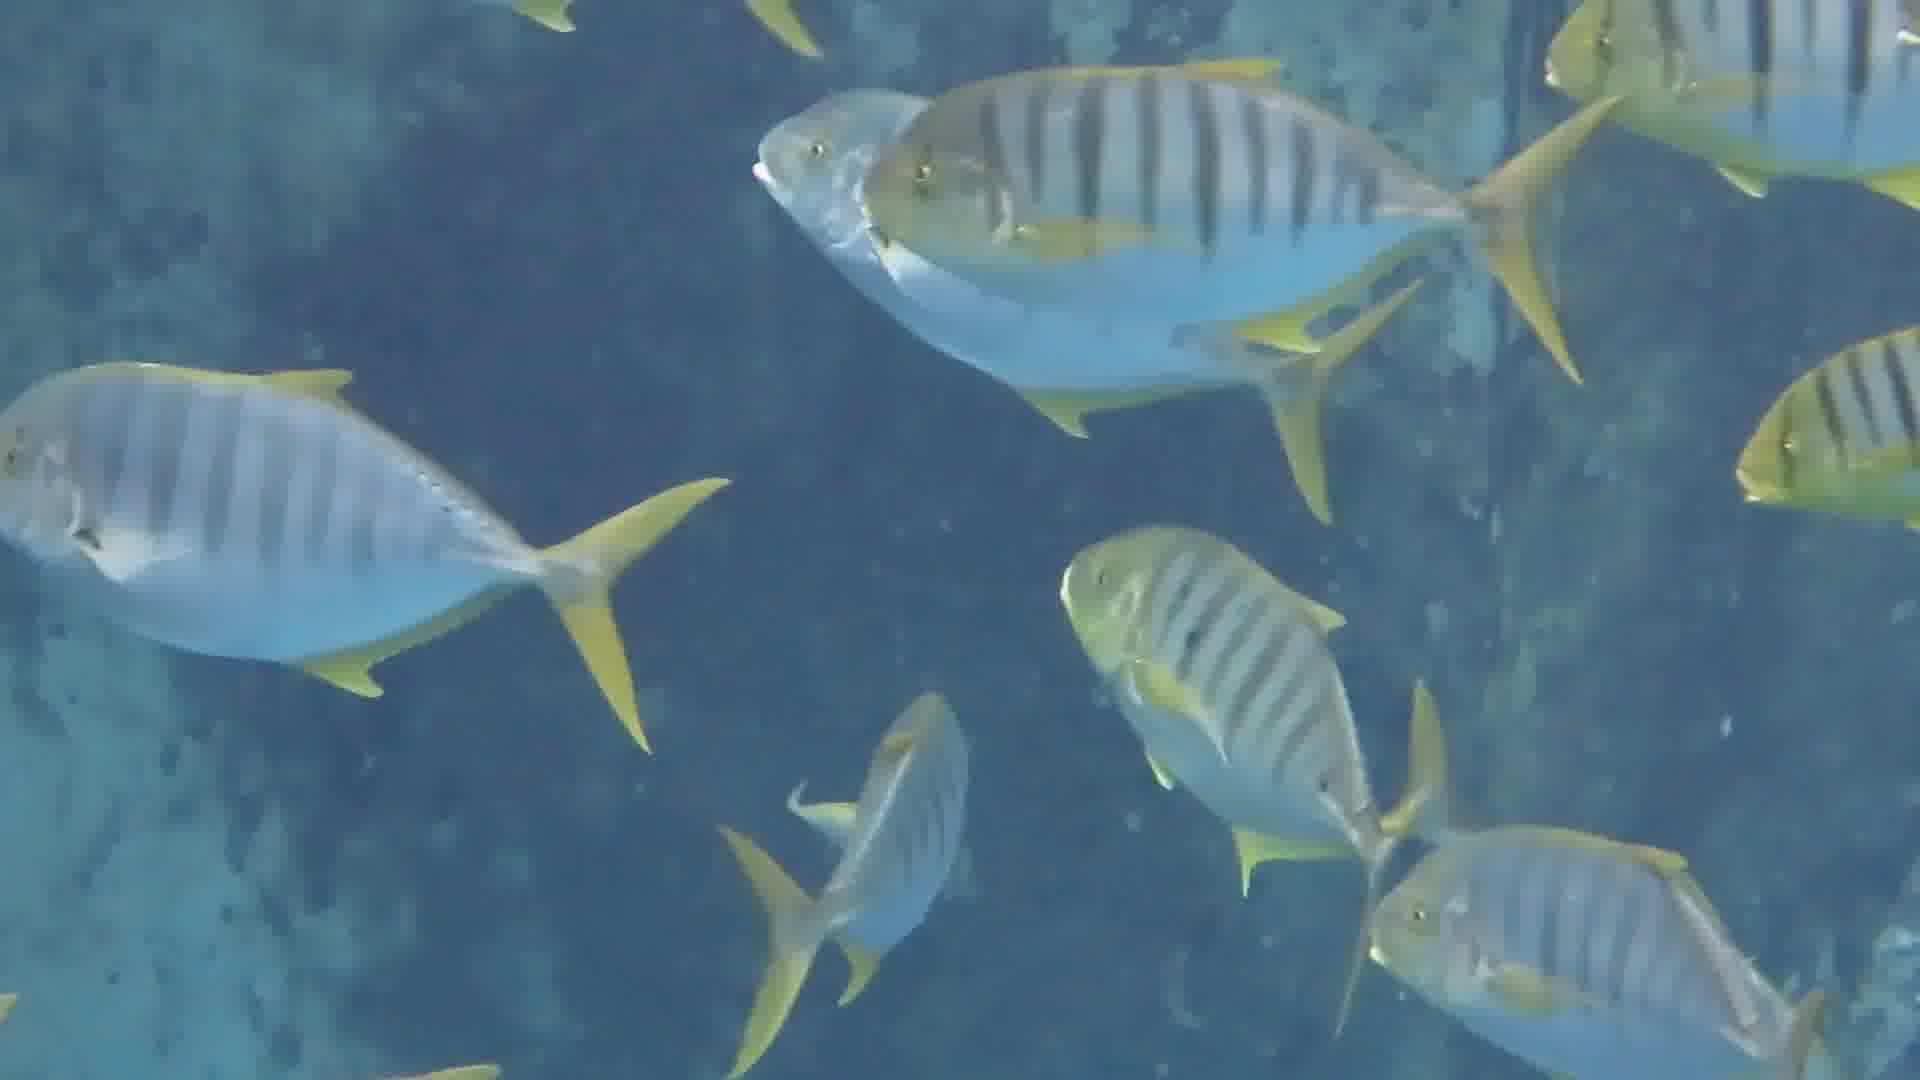Gnathanodon speciosus: (9, 320, 644, 741), (887, 67, 1578, 345), (1058, 495, 1357, 906), (1378, 825, 1808, 1080), (1520, 9, 1920, 150), (1716, 307, 1920, 520)
